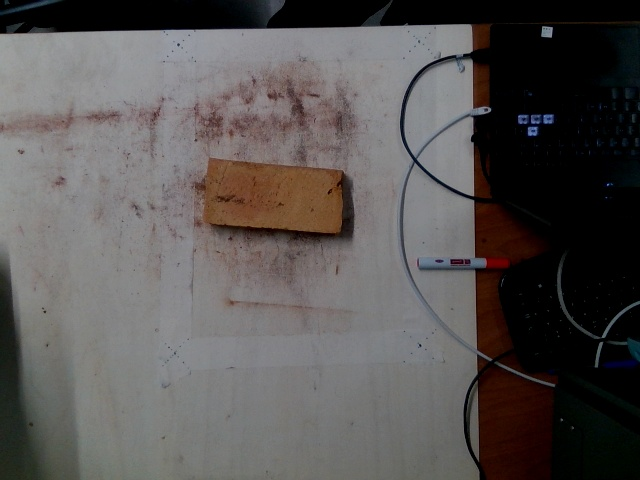brick: (206, 158, 344, 232)
